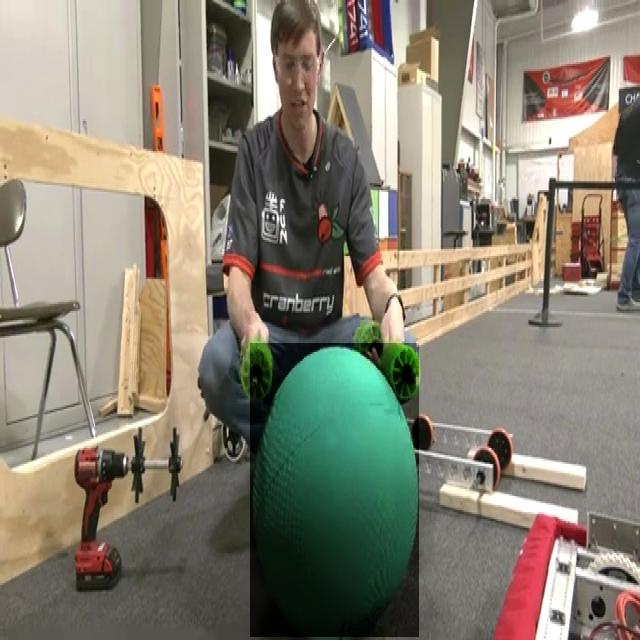Algae: (250, 343, 419, 637)
